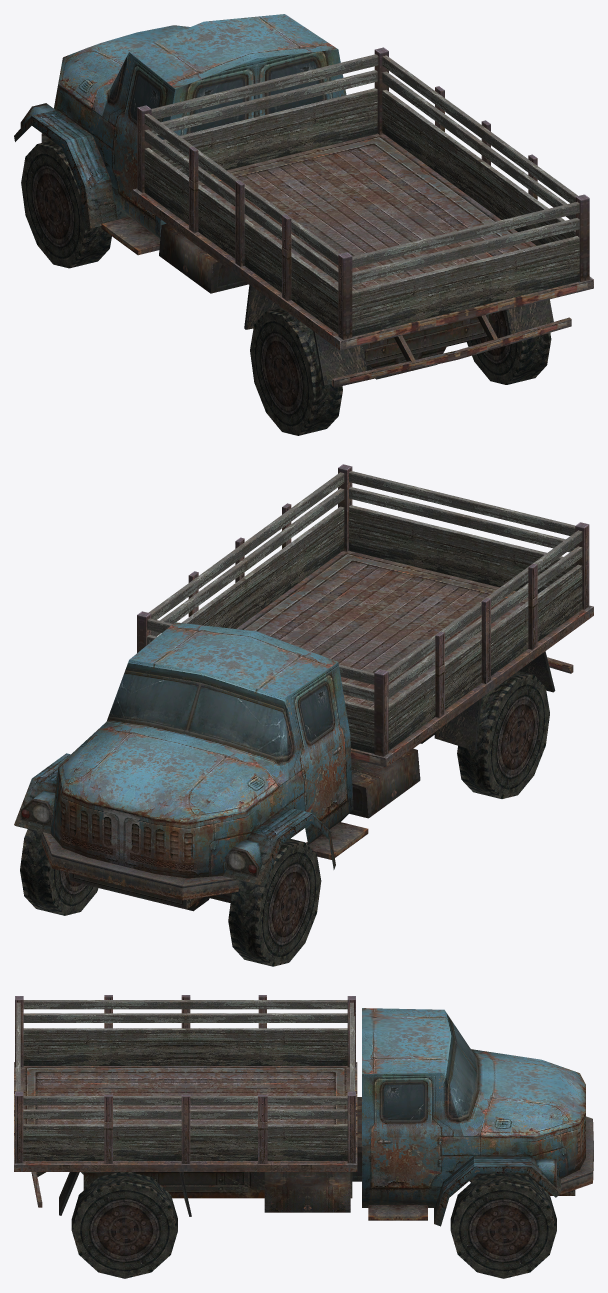
Rendered from Cover_Lorry05_lod1.glb.
The picture shows the model from 3 angles, top to bottom: view 1: azimuth 30°, elevation 25°; view 2: azimuth 150°, elevation 25°; view 3: azimuth 270°, elevation 25°; orthographic projection. The views are drawn at different scales.
Parts seen in each view (by area): view 1: common_lorry_05_lod1; view 2: common_lorry_05_lod1; view 3: common_lorry_05_lod1.
Part boxes in pixels (box(x1,y1,x2,y2)): common_lorry_05_lod1: box(14, 14, 593, 435); common_lorry_05_lod1: box(14, 464, 593, 966); common_lorry_05_lod1: box(14, 995, 593, 1278).
Bounding box in the file's own units: 4.67 × 4.22 × 11.17.
Materials: 1 (1 with a texture image).
